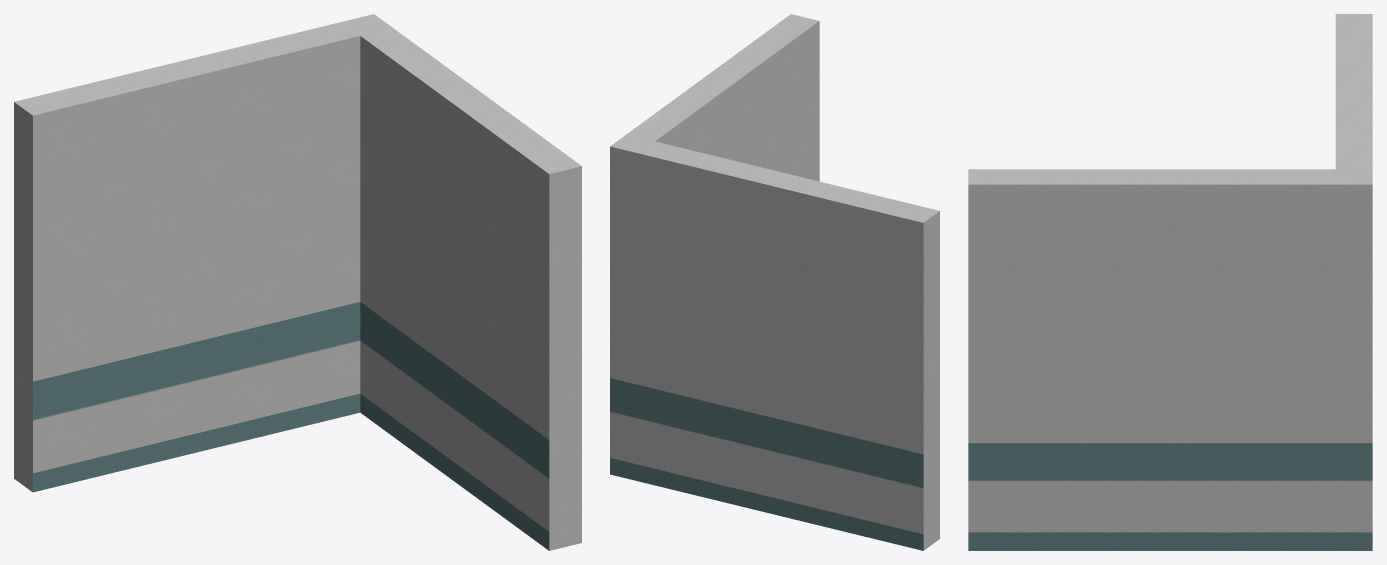
File: wall big corner2.FBX
3 views of the same model, side by side, from view 1: azimuth 30°, elevation 25°; view 2: azimuth 150°, elevation 25°; view 3: azimuth 270°, elevation 25° (orthographic). The views are drawn at different scales.
Parts seen in each view (by area): view 1: wall big corner2; view 2: wall big corner2; view 3: wall big corner2.
Part boxes in pixels (box(x1,y1,x2,y2)): wall big corner2: box(14, 14, 581, 550); wall big corner2: box(610, 14, 939, 550); wall big corner2: box(968, 14, 1372, 550).
Bounding box in the file's own units: 110 × 110 × 110.
